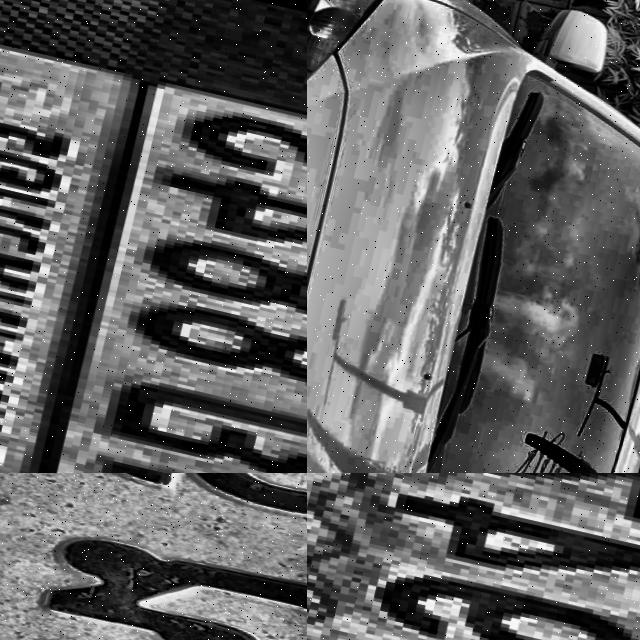license-plate: (0, 0, 307, 473), (307, 473, 640, 640), (0, 473, 307, 640)
